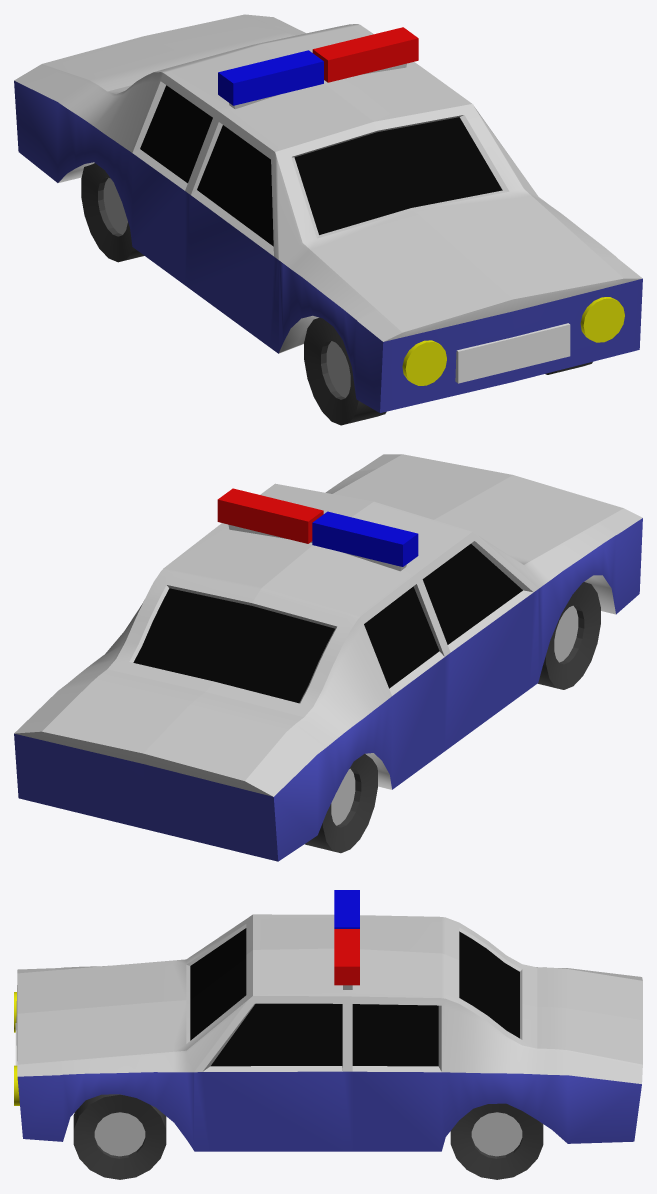
Rendered from Police_Car.fbx.
3 views of the same model, one above another, from view 1: azimuth 30°, elevation 25°; view 2: azimuth 150°, elevation 25°; view 3: azimuth 270°, elevation 25° (orthographic). The views are drawn at different scales.
Parts seen in each view (by area): view 1: polySurface1, pCylinder2, pCube10, pCube12, pCube11, pCylinder4, pCylinder6, pCylinder5; view 2: polySurface1, pCylinder2, pCube12, pCylinder4, pCube11; view 3: polySurface1, pCylinder3, pCylinder1, pCube11, pCube12.
Boxes of the visible parts, left/top/right/bottom form: polySurface1: left=14, top=14, right=642, bottom=412; pCylinder2: left=304, top=317, right=386, bottom=425; pCube10: left=455, top=323, right=570, bottom=383; pCube12: left=218, top=50, right=323, bottom=105; pCube11: left=312, top=27, right=418, bottom=82; pCylinder4: left=81, top=163, right=144, bottom=262; pCylinder6: left=402, top=340, right=446, bottom=385; pCylinder5: left=580, top=297, right=624, bottom=342; polySurface1: left=14, top=454, right=642, bottom=861; pCylinder2: left=538, top=582, right=600, bottom=689; pCube12: left=312, top=511, right=418, bottom=566; pCylinder4: left=305, top=754, right=377, bottom=853; pCube11: left=217, top=488, right=323, bottom=543; polySurface1: left=16, top=914, right=642, bottom=1151; pCylinder3: left=73, top=1094, right=166, bottom=1179; pCylinder1: left=450, top=1103, right=543, bottom=1179; pCube11: left=334, top=929, right=359, bottom=985; pCube12: left=334, top=890, right=359, bottom=928.
Size of the model in its own units: 3.64 by 3.2 by 9.04.
